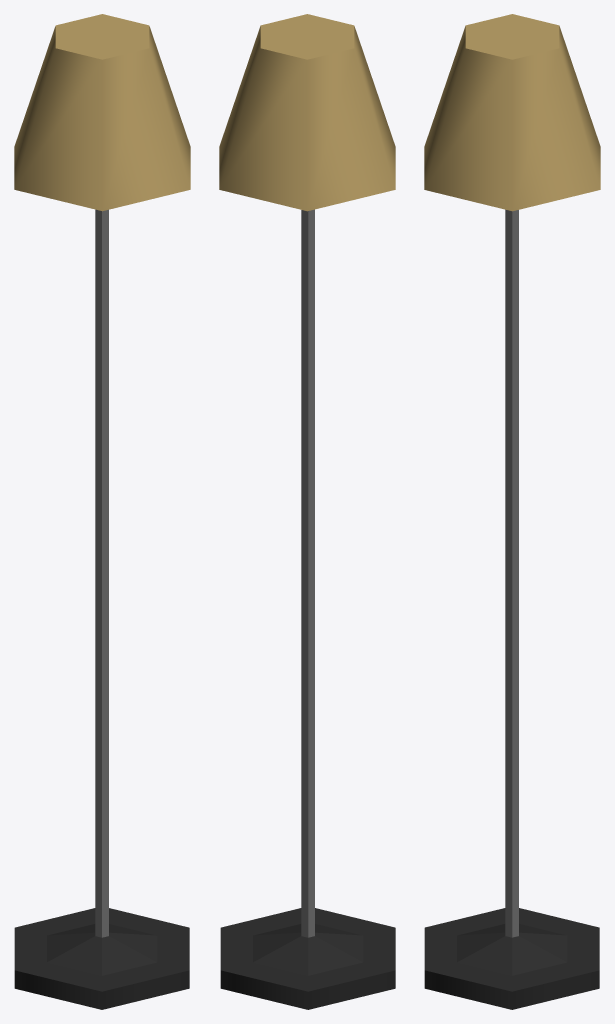
Rendered from lampara_de_peu.FBX.
The picture shows the model from 3 angles, left to right: view 1: azimuth 30°, elevation 25°; view 2: azimuth 150°, elevation 25°; view 3: azimuth 270°, elevation 25°; orthographic projection.
Parts seen in each view (by area): view 1: Object001; view 2: Object001; view 3: Object001.
Boxes of the visible parts, box(x1,y1,x2,y2) form: Object001: box(14, 14, 190, 1009); Object001: box(219, 14, 395, 1009); Object001: box(424, 14, 600, 1009).
Size of the model in its own units: 16.27 by 82.05 by 14.09.
